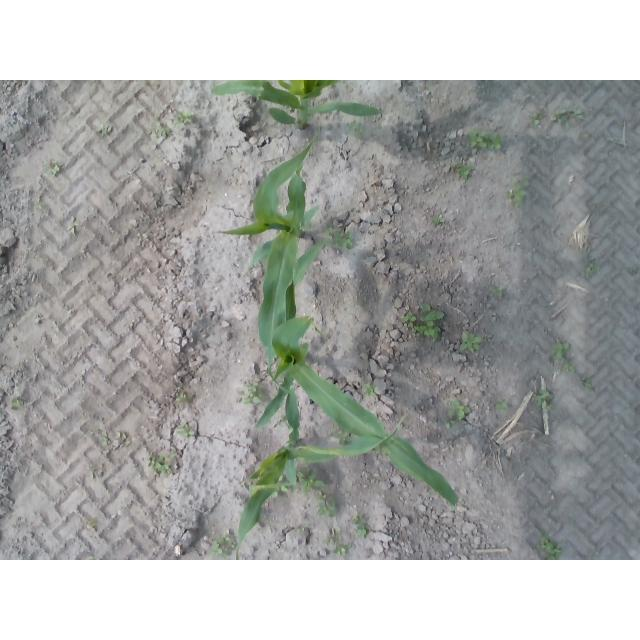Maize: (253, 234, 459, 505), (236, 370, 405, 555), (220, 134, 317, 394), (211, 81, 383, 132)
Weeds: (417, 306, 444, 338), (553, 343, 576, 371), (212, 532, 236, 558), (471, 133, 501, 153), (300, 470, 323, 491), (448, 401, 471, 420), (460, 334, 483, 351), (539, 539, 558, 558), (553, 111, 584, 122), (454, 162, 474, 178), (510, 186, 526, 206), (150, 457, 170, 472), (318, 500, 335, 517), (177, 111, 199, 124), (335, 235, 354, 250), (403, 312, 418, 329), (113, 430, 127, 446), (178, 424, 195, 437), (355, 521, 368, 538), (246, 392, 264, 404), (249, 377, 264, 391), (154, 128, 172, 139), (490, 290, 505, 301), (535, 391, 550, 402), (587, 263, 598, 278), (334, 545, 349, 556), (360, 385, 374, 396), (97, 125, 112, 135), (580, 376, 592, 388), (497, 397, 508, 410), (12, 398, 26, 408), (532, 113, 544, 123), (433, 215, 445, 225), (176, 393, 188, 403), (48, 166, 60, 175)
